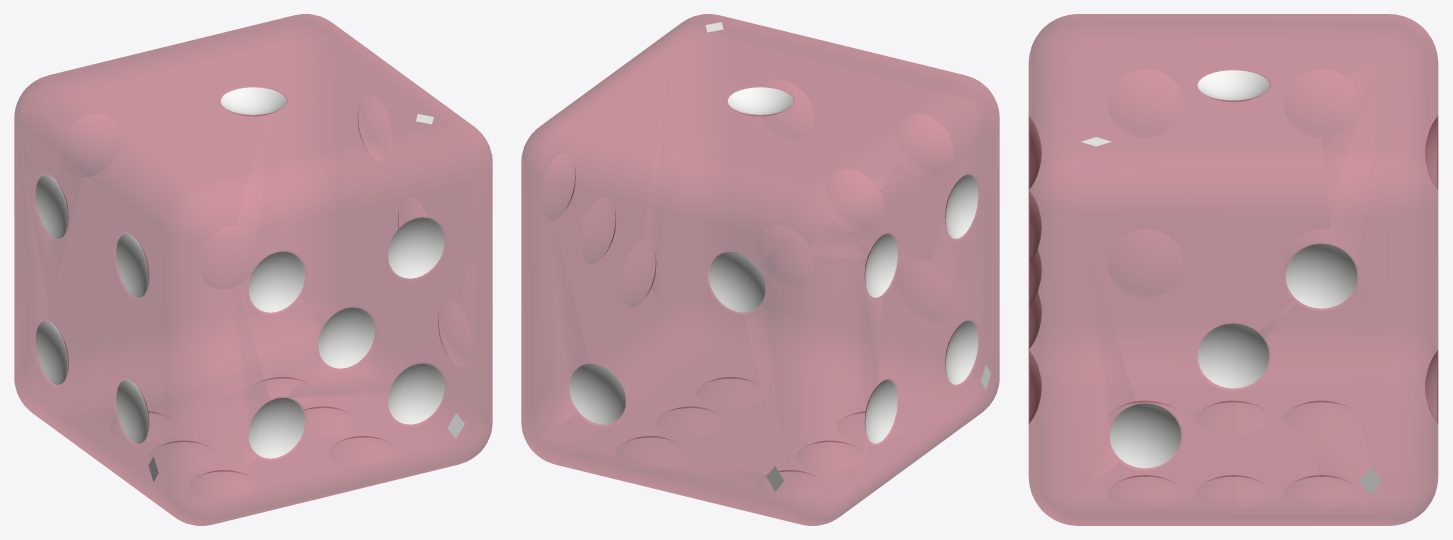
The model's file is glass_die.glb.
3 renders of one model, left to right at view 1: azimuth 30°, elevation 25°; view 2: azimuth 150°, elevation 25°; view 3: azimuth 270°, elevation 25°, orthographic. The views are drawn at different scales.
Parts seen in each view (by area): view 1: GlassBody, Marking_5, Marking_4, Marking_1; view 2: GlassBody, Marking_4, Marking_2, Marking_1; view 3: GlassBody, Marking_3, Marking_5, Marking_1, Marking_2.
Part boxes in pixels (x1=…): GlassBody: x1=14, y1=14, x2=492, y2=525; Marking_5: x1=248, y1=217, x2=444, y2=458; Marking_4: x1=35, y1=175, x2=148, y2=443; Marking_1: x1=221, y1=87, x2=285, y2=115; GlassBody: x1=521, y1=14, x2=999, y2=525; Marking_4: x1=865, y1=175, x2=978, y2=443; Marking_2: x1=569, y1=251, x2=765, y2=424; Marking_1: x1=728, y1=87, x2=792, y2=115; GlassBody: x1=1028, y1=14, x2=1438, y2=525; Marking_3: x1=1109, y1=243, x2=1357, y2=468; Marking_5: x1=1030, y1=118, x2=1041, y2=421; Marking_1: x1=1197, y1=70, x2=1269, y2=101; Marking_2: x1=1425, y1=118, x2=1436, y2=421.
Size of the model in its own units: 2.01 by 2.01 by 2.01.
